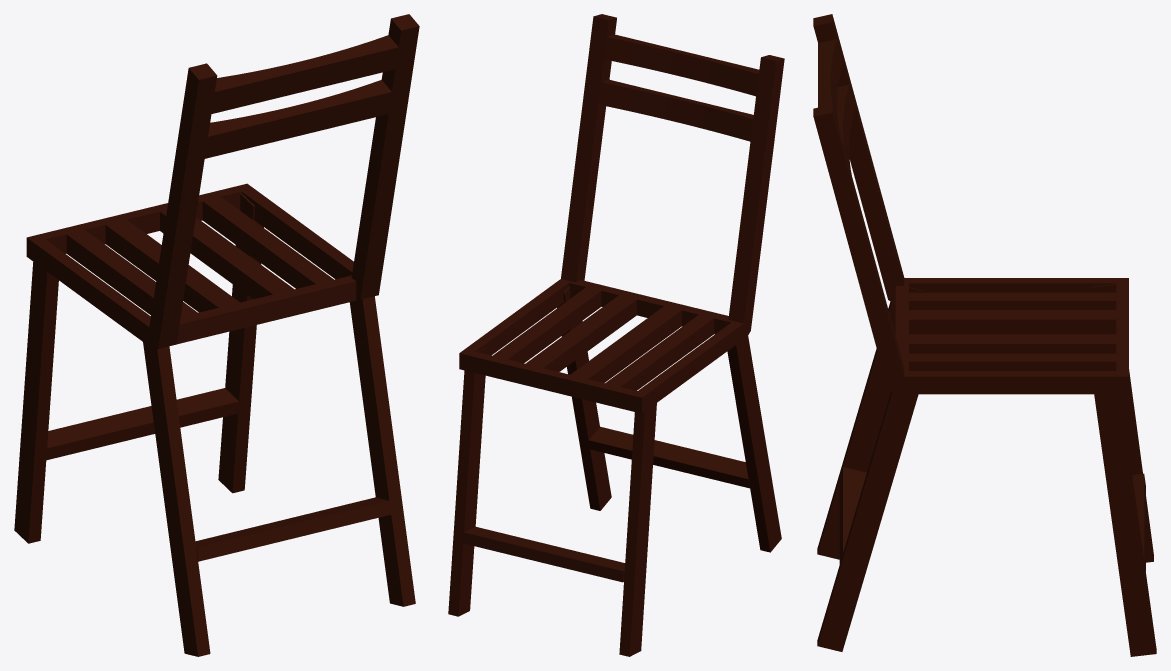
3 views of the same model, side by side, from view 1: azimuth 30°, elevation 25°; view 2: azimuth 150°, elevation 25°; view 3: azimuth 270°, elevation 25° (orthographic). The views are drawn at different scales.
Parts seen in each view (by area): view 1: mesh1_mesh1-geometry, mesh8_mesh8-geometry, mesh21_mesh21-geometry, mesh19_mesh19-geometry, mesh25_mesh25-geometry, mesh27_mesh27-geometry, mesh23_mesh23-geometry, mesh29_mesh29-geometry; view 2: mesh1_mesh1-geometry, mesh8_mesh8-geometry, mesh25_mesh25-geometry, mesh23_mesh23-geometry, mesh21_mesh21-geometry, mesh29_mesh29-geometry, mesh27_mesh27-geometry, mesh19_mesh19-geometry; view 3: mesh1_mesh1-geometry, mesh8_mesh8-geometry, mesh19_mesh19-geometry, mesh23_mesh23-geometry, mesh21_mesh21-geometry, mesh13_mesh13-geometry, mesh25_mesh25-geometry, mesh29_mesh29-geometry, mesh27_mesh27-geometry.
Part boxes in pixels (left/top/right/bottom): mesh1_mesh1-geometry: left=26, top=183, right=356, bottom=349; mesh8_mesh8-geometry: left=149, top=14, right=419, bottom=348; mesh21_mesh21-geometry: left=143, top=342, right=210, bottom=656; mesh19_mesh19-geometry: left=349, top=296, right=415, bottom=606; mesh25_mesh25-geometry: left=14, top=240, right=58, bottom=543; mesh27_mesh27-geometry: left=46, top=388, right=238, bottom=460; mesh23_mesh23-geometry: left=218, top=193, right=263, bottom=493; mesh29_mesh29-geometry: left=195, top=497, right=391, bottom=561; mesh1_mesh1-geometry: left=459, top=279, right=747, bottom=413; mesh8_mesh8-geometry: left=561, top=14, right=784, bottom=332; mesh25_mesh25-geometry: left=619, top=403, right=656, bottom=656; mesh23_mesh23-geometry: left=448, top=347, right=487, bottom=616; mesh21_mesh21-geometry: left=727, top=336, right=781, bottom=552; mesh29_mesh29-geometry: left=589, top=426, right=749, bottom=488; mesh27_mesh27-geometry: left=463, top=526, right=625, bottom=582; mesh19_mesh19-geometry: left=557, top=286, right=611, bottom=510; mesh1_mesh1-geometry: left=895, top=278, right=1128, bottom=394; mesh8_mesh8-geometry: left=813, top=14, right=906, bottom=390; mesh19_mesh19-geometry: left=817, top=392, right=918, bottom=651; mesh23_mesh23-geometry: left=1094, top=394, right=1156, bottom=656; mesh21_mesh21-geometry: left=817, top=287, right=921, bottom=559; mesh13_mesh13-geometry: left=849, top=107, right=904, bottom=299; mesh25_mesh25-geometry: left=1091, top=284, right=1153, bottom=562; mesh29_mesh29-geometry: left=839, top=467, right=866, bottom=564; mesh27_mesh27-geometry: left=1132, top=473, right=1145, bottom=571.
Size of the model in its own units: 0.3194 by 0.8232 by 0.4695.
